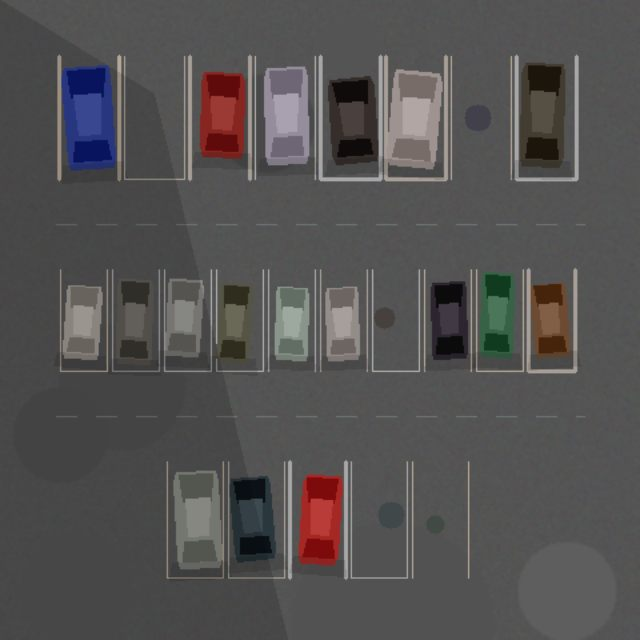space-empty: (124, 56, 184, 179), (451, 56, 511, 179), (351, 461, 407, 577), (412, 461, 468, 577), (372, 269, 419, 371)
space-occupied: (59, 56, 119, 179), (189, 56, 249, 179), (255, 56, 315, 179), (320, 56, 380, 179), (385, 56, 445, 179), (516, 56, 576, 179), (167, 461, 223, 577), (228, 461, 284, 577), (289, 461, 345, 577), (60, 269, 107, 371), (112, 269, 159, 371), (164, 269, 211, 371), (216, 269, 263, 371), (268, 269, 315, 371), (320, 269, 367, 371), (424, 269, 471, 371), (476, 269, 523, 371), (528, 269, 575, 371)
